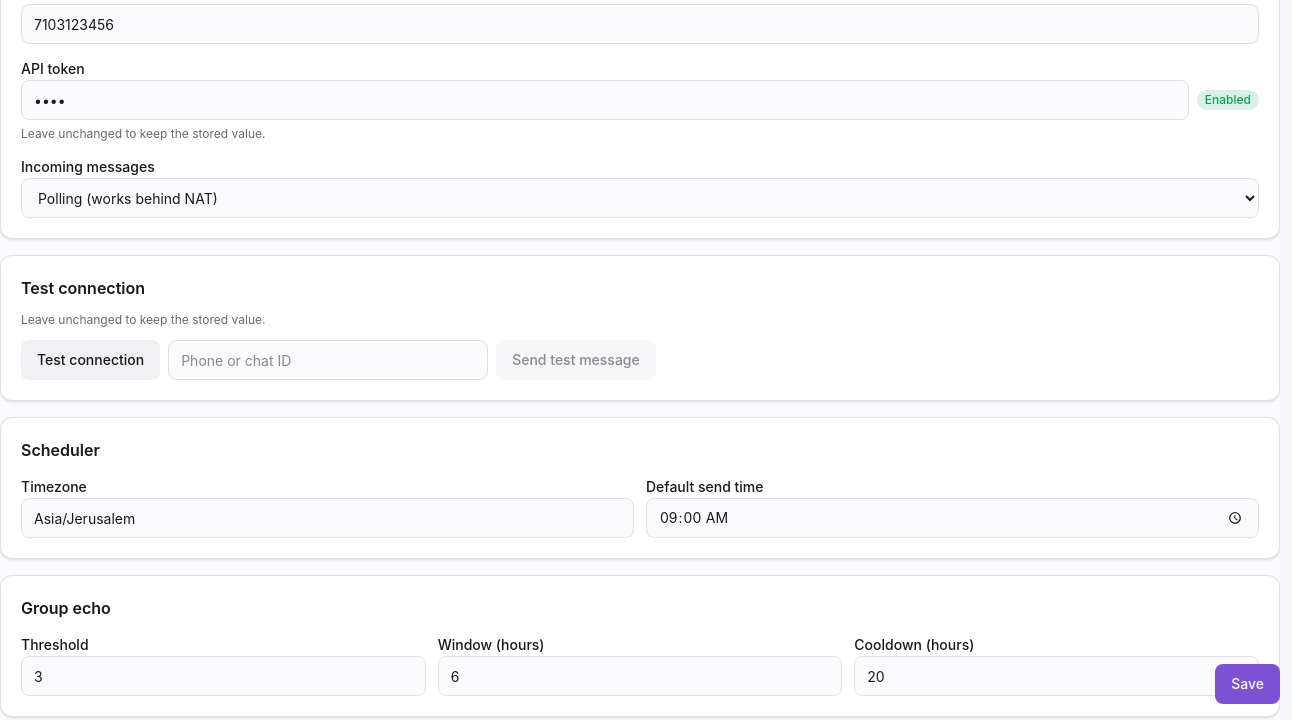
Test: provider tools › keeps the send button disabled until a destination is entered
(page scrolled)
Check: the button "Send test message" is disabled, box [496, 340, 656, 380]
Type "972500000001" into the field with placeholder "Phone or chat ID" at (328, 360), box [168, 340, 488, 380]
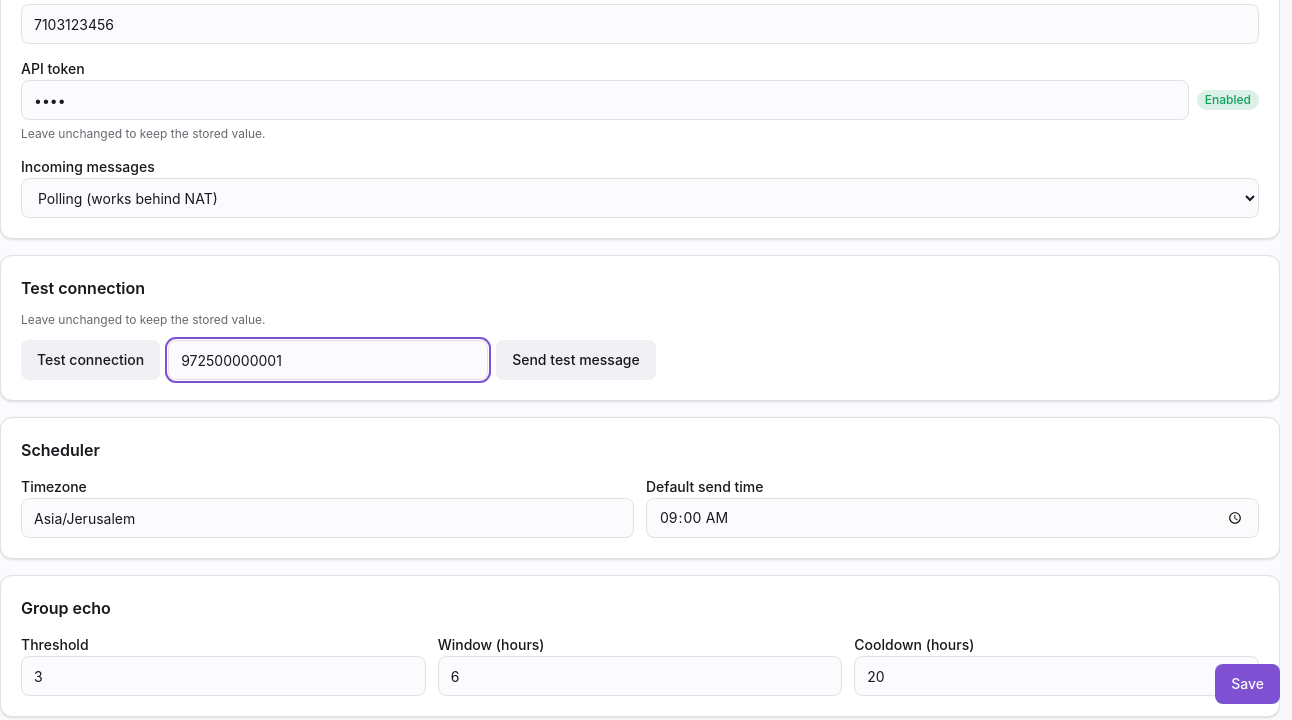
Check: the button "Send test message" is enabled, box [496, 340, 656, 380]
